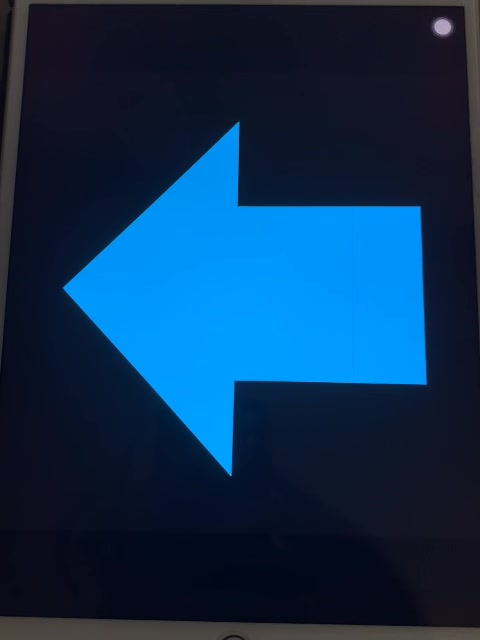left: (56, 109, 433, 481)
